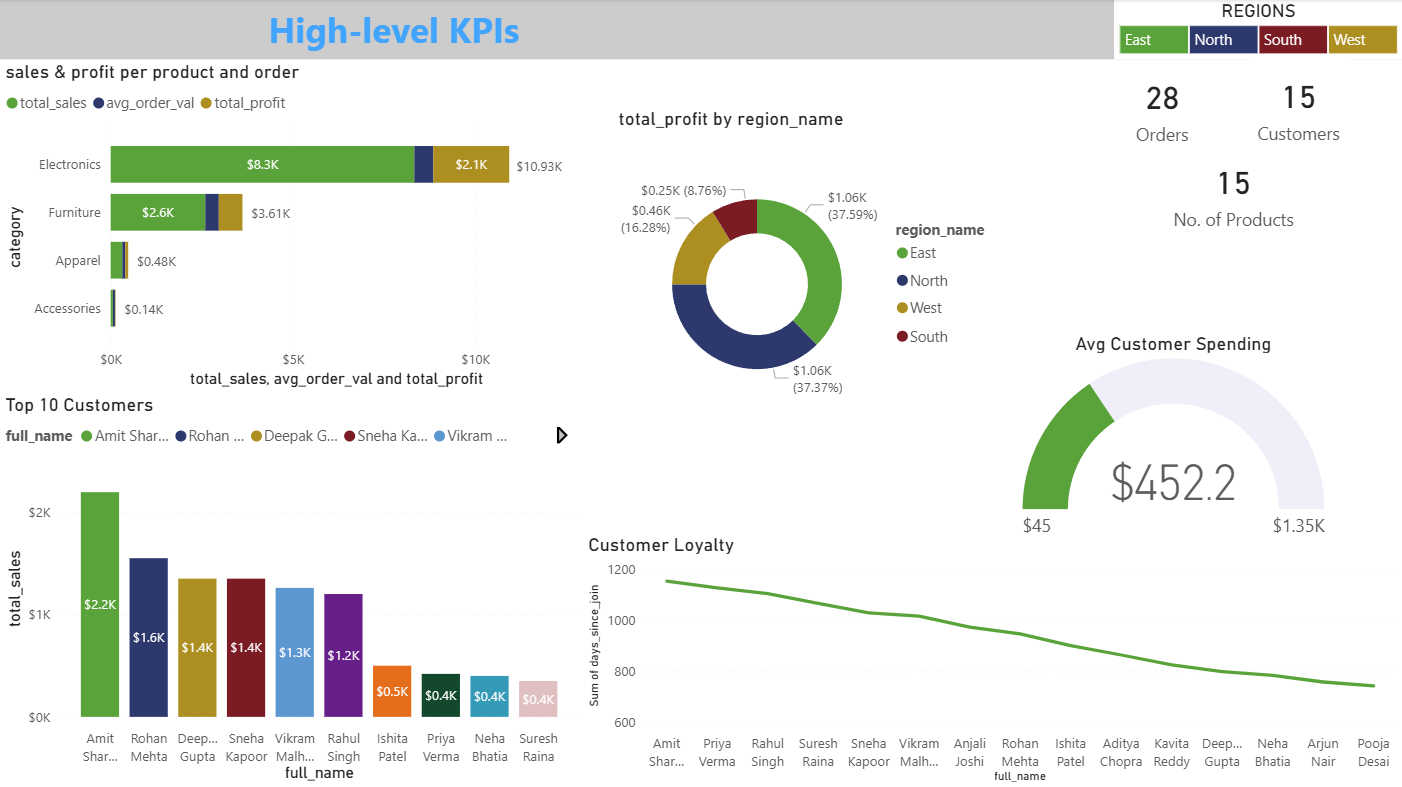

The dashboard page shown, as its layout file describes it:
{"tool":"powerbi","page":{"name":"retail_dashboard","canvas":[1280,720],"ordinal":1},"visuals":[{"type":"textbox","box":[0,0,1280.4,55.3],"z":0},{"type":"barChart","title":"sales & profit per product and order","fields":{"Category":["products.category","products.product_name","order_items.order_id"],"Y":["orders.total_sales","orders.avg_order_val","orders.total_profit"]},"box":[0,55.4,532,304.4],"z":1000},{"type":"treemap","title":"REGIONS","fields":{"Values":["CountNonNull(regions.region_name)"],"Group":["regions.region_name"]},"box":[1016.5,0,263.9,55.3],"z":2000},{"type":"columnChart","title":"Top 10 Customers","fields":{"Category":["customers.full_name"],"Y":["orders.total_sales"],"Series":["customers.full_name"]},"box":[0,359.9,532,359.9],"z":3000},{"type":"donutChart","title":"Total Profit by Regions","fields":{"Category":["regions.region_name"],"Y":["orders.total_profit"]},"box":[559.3,98.2,361.8,304.4],"z":4000},{"type":"gauge","title":"Avg Customer Spending","fields":{"Y":["Avg(orders.total_amount)"],"MinValue":["Min(orders.total_amount)"],"MaxValue":["Max(orders.total_amount)"]},"box":[921.3,303.8,298.3,197.7],"z":5000},{"type":"card","fields":{"Values":["CountNonNull(customers.customer_id)"]},"box":[1139.8,54.4,90.7,86.1],"z":6000},{"type":"card","fields":{"Values":["CountNonNull(order_items.order_id)"]},"box":[1028.3,55.3,64.4,86.1],"z":7000},{"type":"card","fields":{"Values":["CountNonNull(products.product_id)"]},"box":[1048.3,140.6,154.2,71.6],"z":8000},{"type":"lineChart","title":"Customer Loyalty","fields":{"Category":["customers.full_name"],"Y":["Sum(customers.days_since_join)"]},"box":[532,487.3,748,232.5],"z":9000}]}

Visuals, with their boxes in screenshot pixels (x1, y1, x2, y2), scaled from the page's 1280x720 canvas onto the 1402x787 screenshot:
textbox: detection(0, 0, 1401, 60)
"sales & profit per product and order" barChart: detection(0, 61, 583, 393)
"REGIONS" treemap: detection(1113, 0, 1401, 60)
"Top 10 Customers" columnChart: detection(0, 393, 583, 786)
"Total Profit by Regions" donutChart: detection(613, 107, 1009, 440)
"Avg Customer Spending" gauge: detection(1009, 332, 1336, 548)
card - CountNonNull(customers.customer_id): detection(1248, 59, 1348, 154)
card - CountNonNull(order_items.order_id): detection(1126, 60, 1197, 155)
card - CountNonNull(products.product_id): detection(1148, 154, 1317, 232)
"Customer Loyalty" lineChart: detection(583, 533, 1401, 786)
